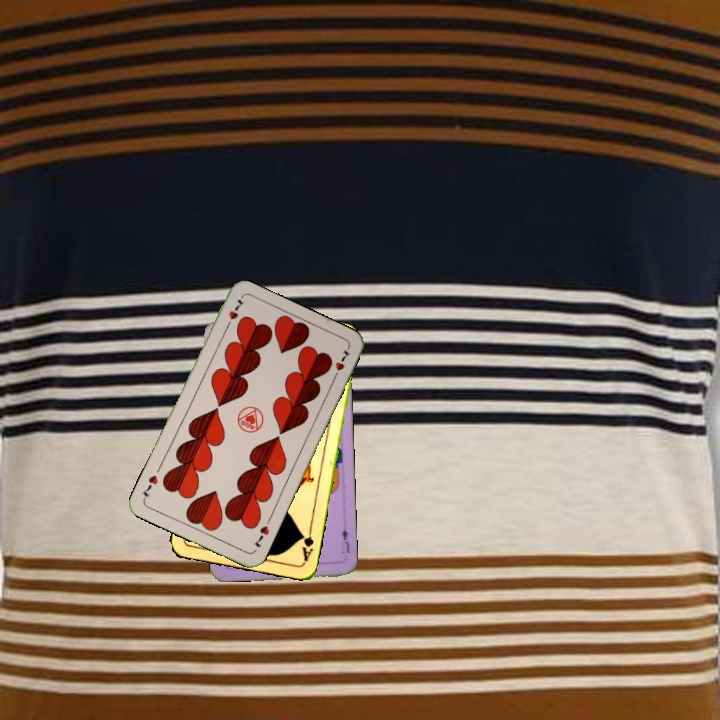EU: (338, 525, 352, 556)
GA: (297, 524, 316, 564)
H7: (221, 295, 246, 332), (249, 515, 273, 550)
